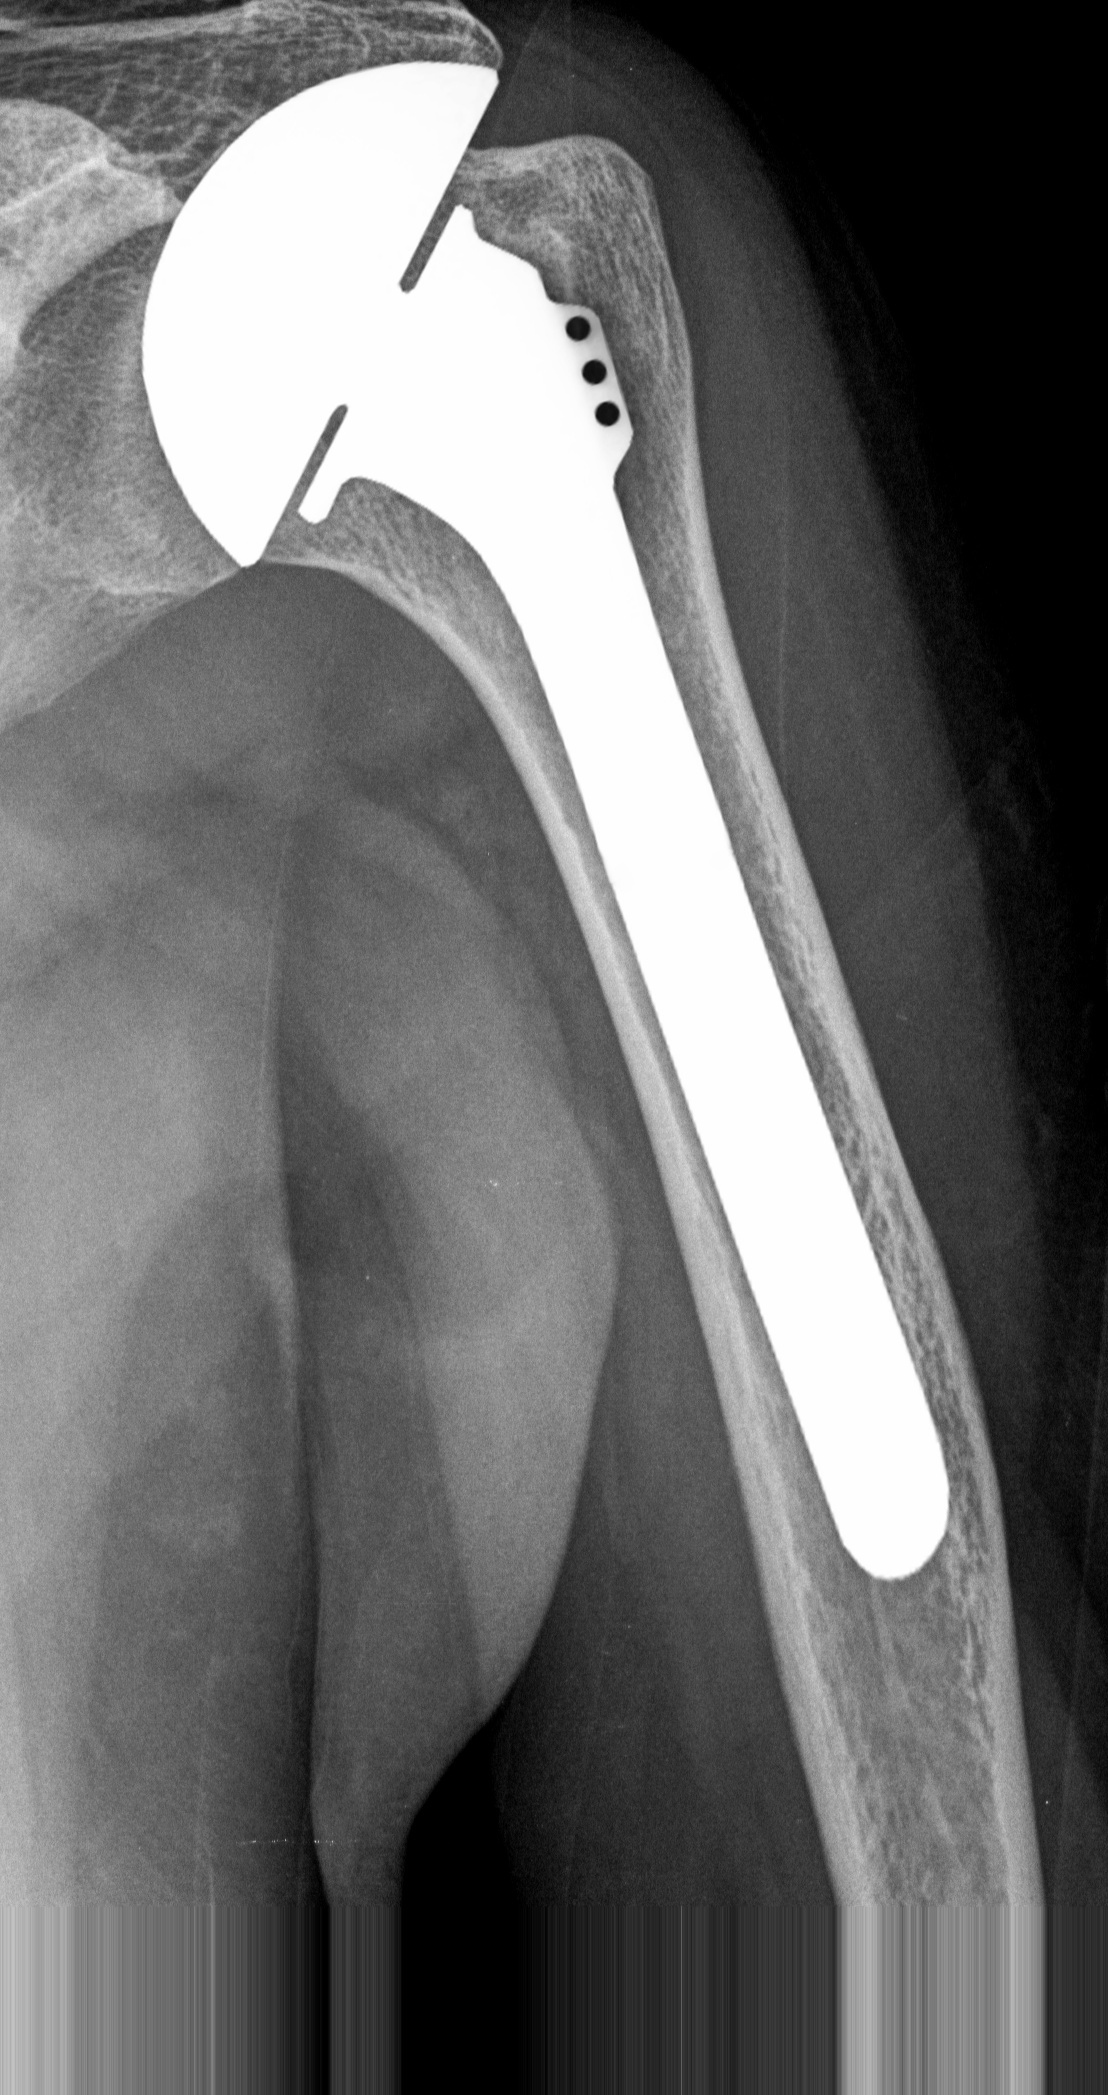Shoulder-Olympia-Wright: (101, 58, 964, 1595)
